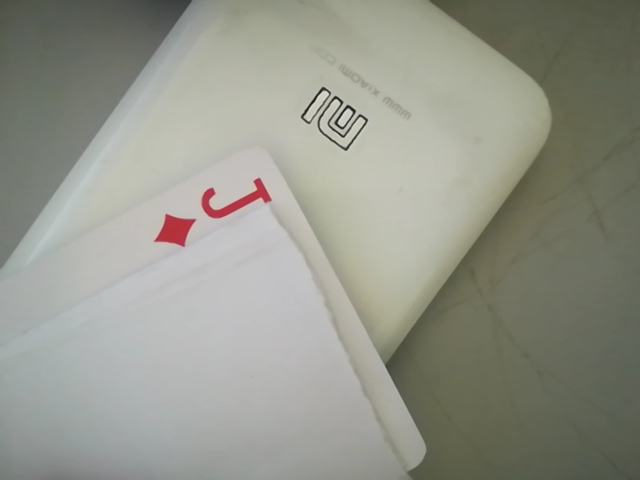fk j: (118, 173, 279, 251)
